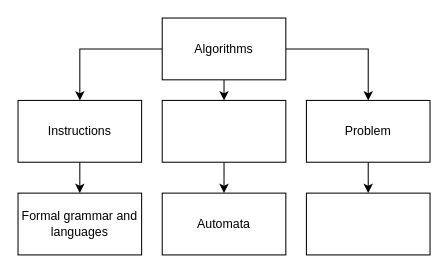
This 448x273 diagram has some shape labels left out. The centre of each missing label's shape, as x and y in pixels:
Agent: (223,130)
Computational complexity: (367,223)
